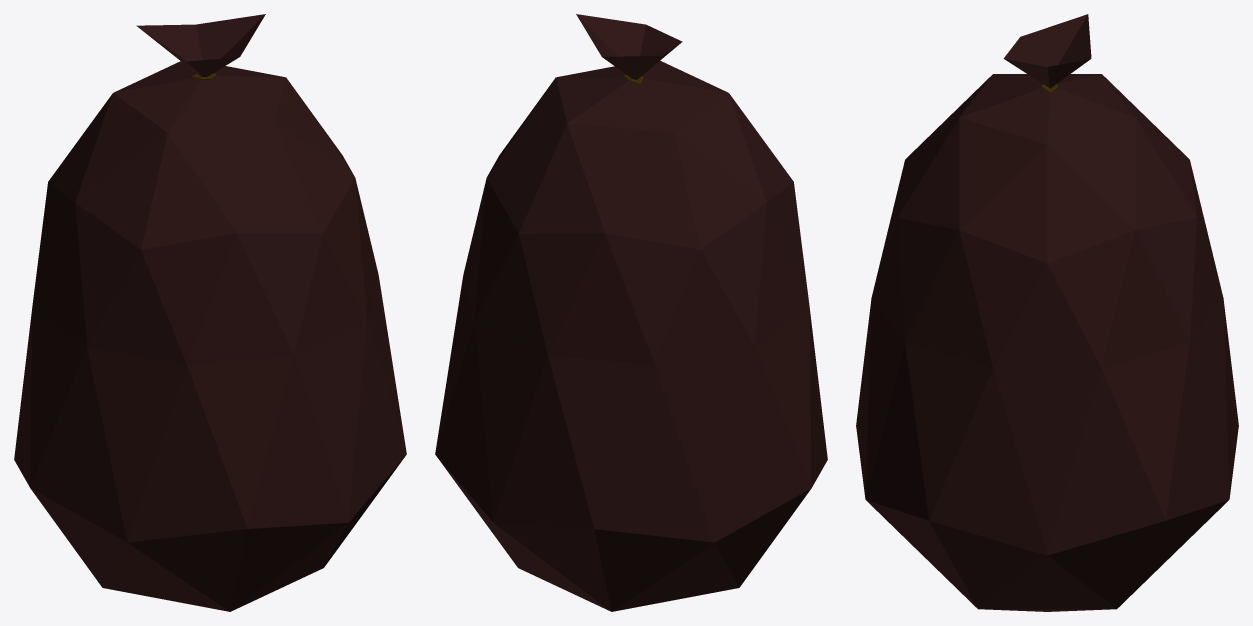
File: rubbish(hot)!!!.glb
3 views of the same model, side by side, from view 1: azimuth 30°, elevation 25°; view 2: azimuth 150°, elevation 25°; view 3: azimuth 270°, elevation 25° (orthographic).
Parts seen in each view (by area): view 1: Icosphere; view 2: Icosphere; view 3: Icosphere.
Boxes of the visible parts, x1,y1,x2,y2 form: Icosphere: (14, 14, 406, 611); Icosphere: (435, 14, 827, 611); Icosphere: (856, 14, 1238, 611).
Size of the model in its own units: 1.96 by 3.16 by 1.91.
